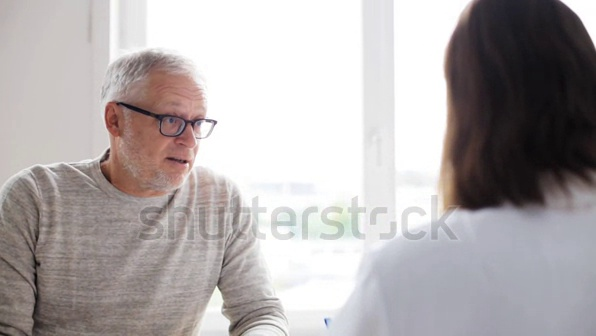No Mask: (97, 47, 221, 199)
